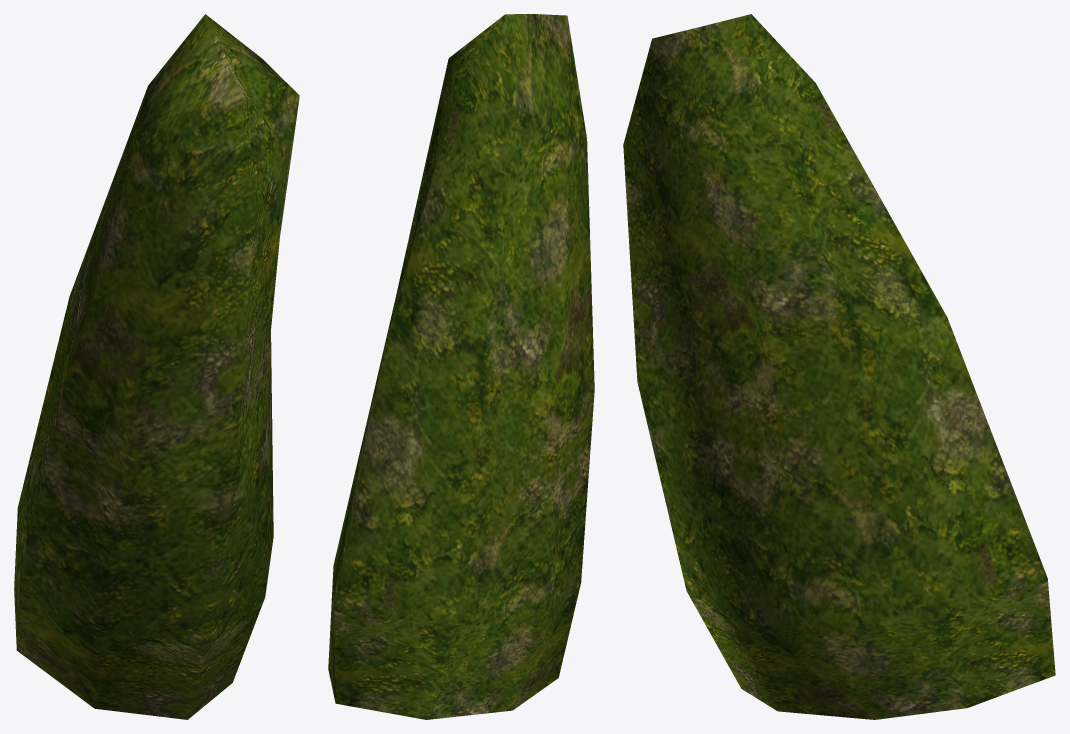
File: OVERHILL_A_01_BR_ROCK205.fbx
3 views of the same model, side by side, from view 1: azimuth 30°, elevation 25°; view 2: azimuth 150°, elevation 25°; view 3: azimuth 270°, elevation 25° (orthographic). The views are drawn at different scales.
Visible parts, largest first — view 1: OVERHILL_A_01_BR_ROCK205; view 2: OVERHILL_A_01_BR_ROCK205; view 3: OVERHILL_A_01_BR_ROCK205.
Boxes of the visible parts, <box> form: OVERHILL_A_01_BR_ROCK205: <box>14,14,299,719</box>; OVERHILL_A_01_BR_ROCK205: <box>328,14,594,719</box>; OVERHILL_A_01_BR_ROCK205: <box>623,14,1055,719</box>.
Bounding box in the file's own units: 21109 × 63774 × 36441.
Materials: 1 (1 with a texture image).
